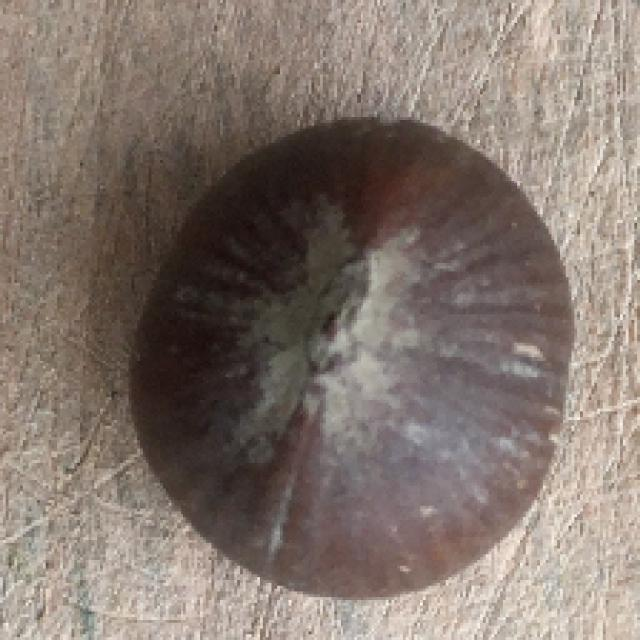DamagedHazelnut: (135, 118, 574, 597)
